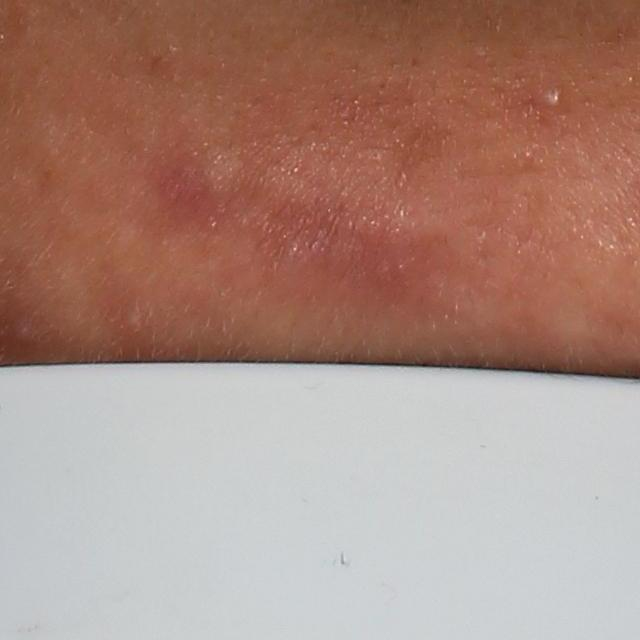hypertrophic_scar: (198, 145, 247, 210)
pustule: (530, 83, 570, 113)
